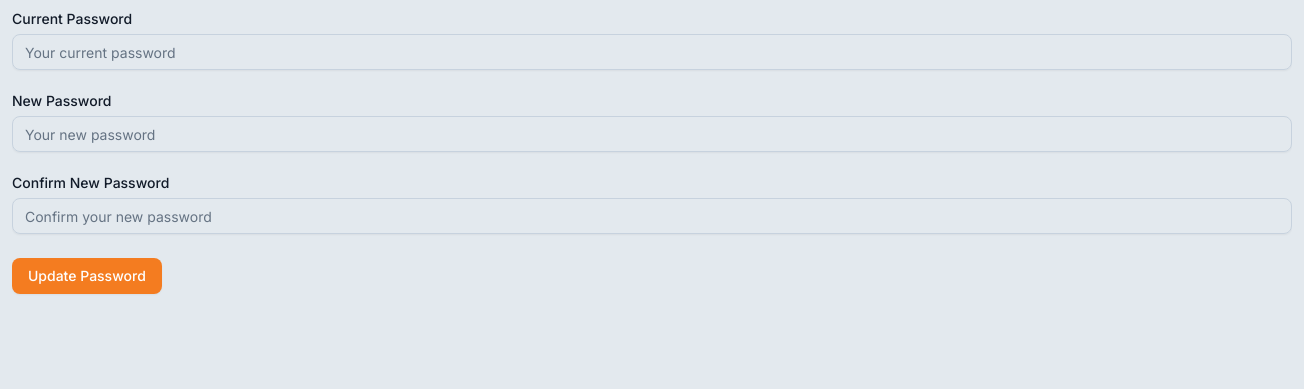
Scenario: PasswordUpdateForm › submits the form with valid data
Type "CurrentPass123" into the password field labelled "Current Password".
click(652, 52); type("CurrentPass123")  # box [12, 34, 1292, 70]
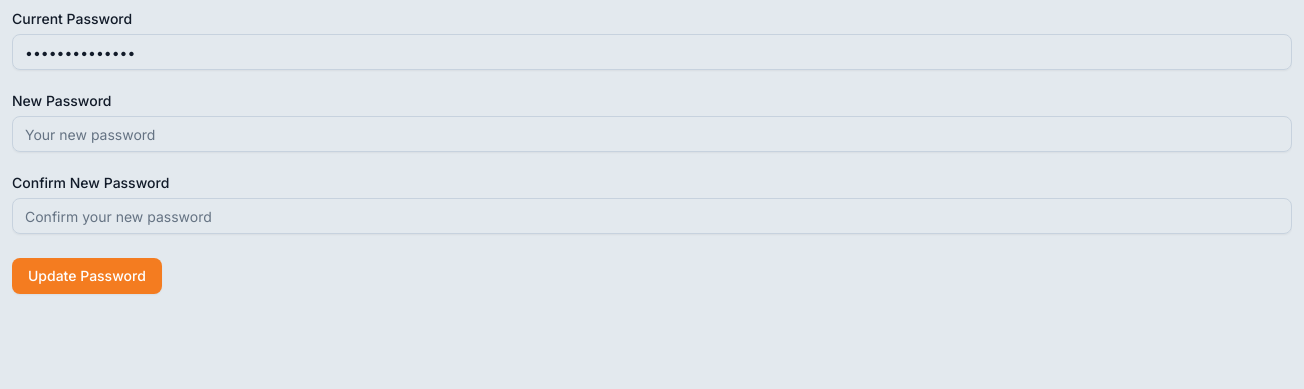
Type "NewPassword123" into the password field with placeholder "Your new password".
click(652, 134); type("NewPassword123")  # box [12, 116, 1292, 152]
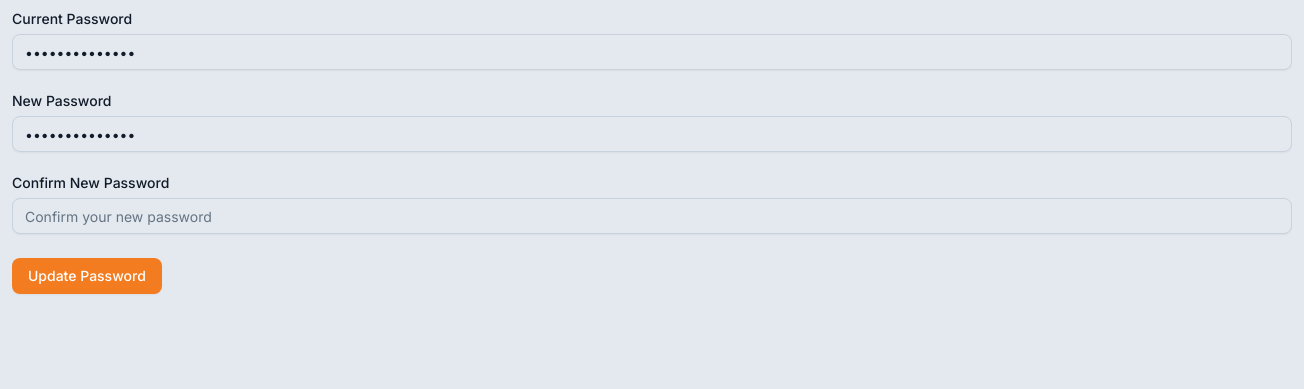
Type "NewPassword123" into the password field with placeholder "Confirm your new password".
click(652, 216); type("NewPassword123")  # box [12, 198, 1292, 234]
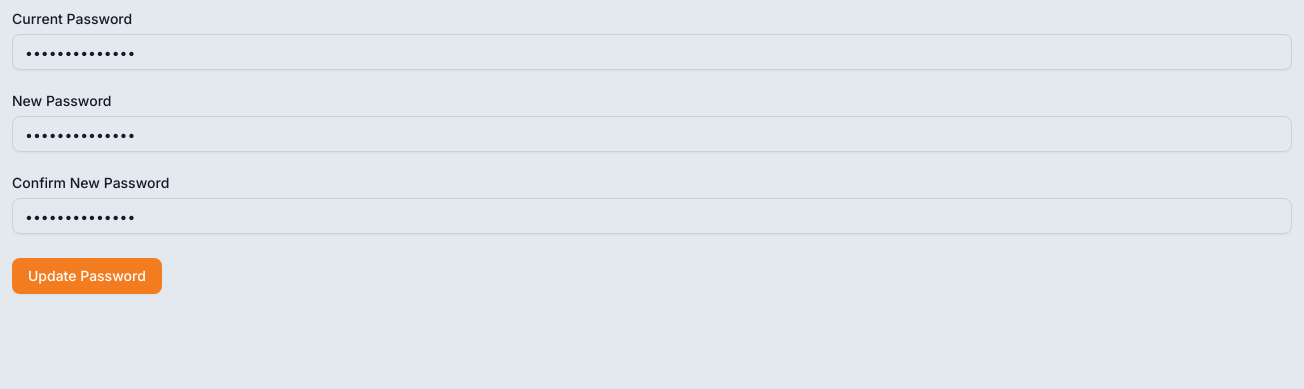
Click the button "Update Password".
click(87, 276)  # box [12, 258, 162, 294]
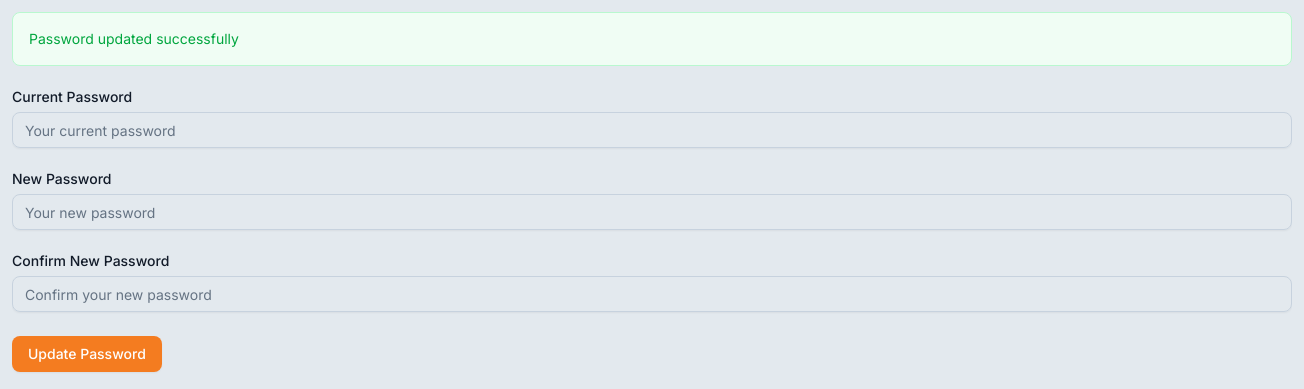
Check: the text "Password updated successfully" is shown, box [12, 12, 1292, 66]
